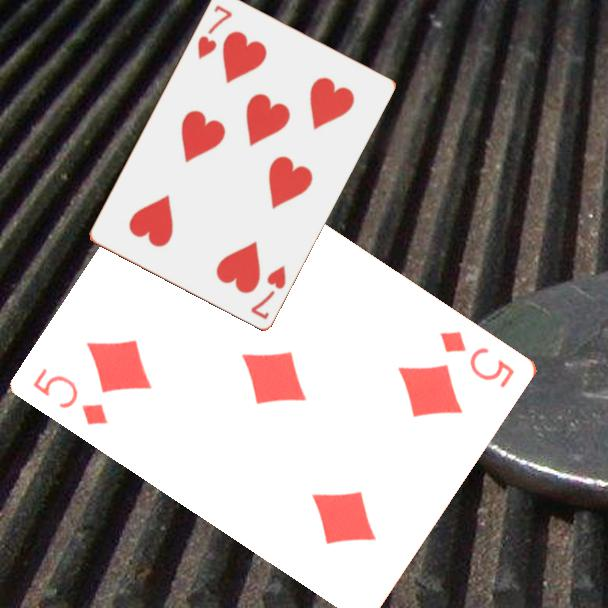d05: (436, 327, 519, 391), (30, 364, 112, 428)
h07: (247, 261, 289, 322), (194, 1, 235, 62)
